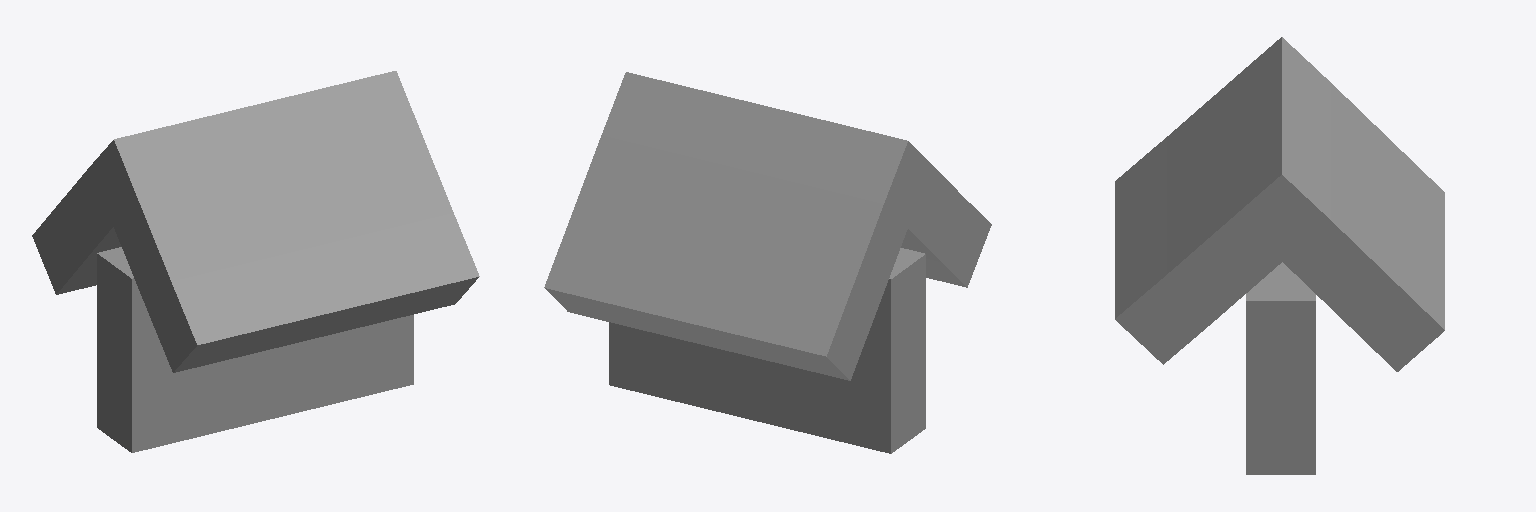
The model's file is arrow_bulb.obj.
The picture shows the model from 3 angles: view 1: azimuth 30°, elevation 25°; view 2: azimuth 150°, elevation 25°; view 3: azimuth 270°, elevation 25°; orthographic projection.
Parts seen in each view (by area): view 1: ArrowBulb_Cube; view 2: ArrowBulb_Cube; view 3: ArrowBulb_Cube.
Part boxes in pixels (x1,y1,x2,y2): ArrowBulb_Cube: (32, 71, 479, 452); ArrowBulb_Cube: (544, 72, 991, 453); ArrowBulb_Cube: (1115, 37, 1444, 474).
Bounding box in the file's own units: 1.96 × 1.99 × 1.99.